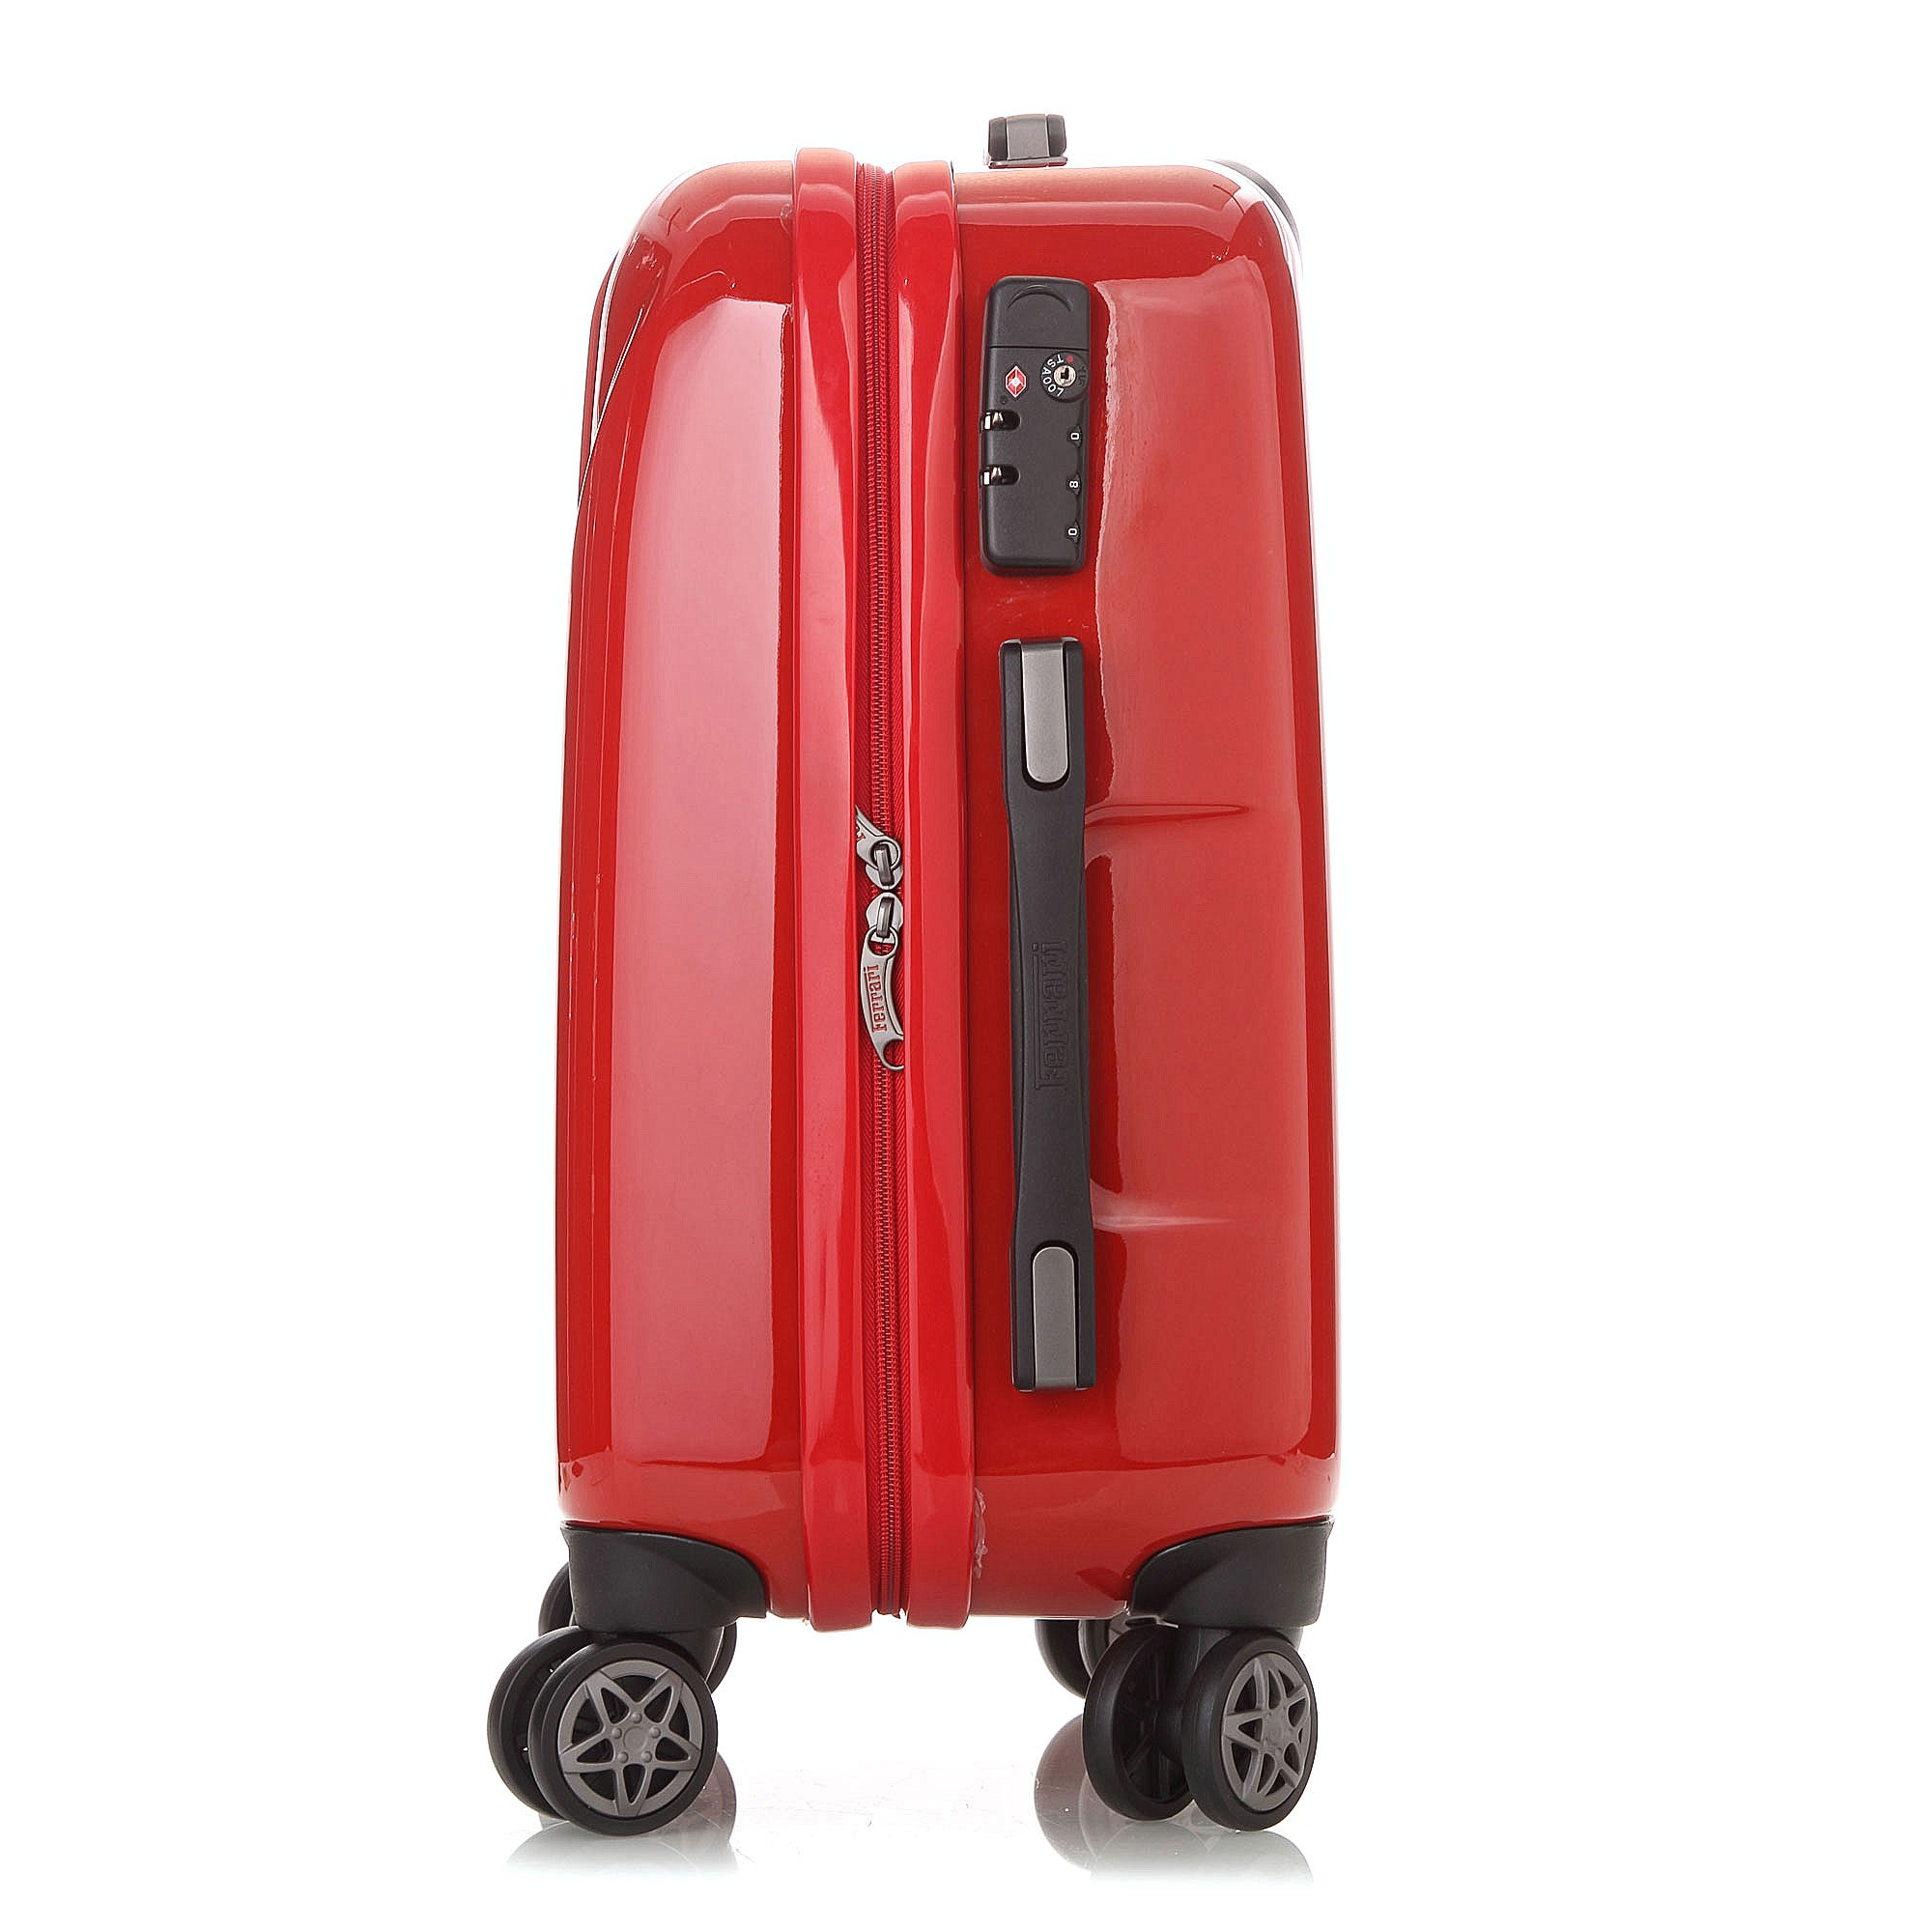luggage: (485, 115, 1345, 1831)
